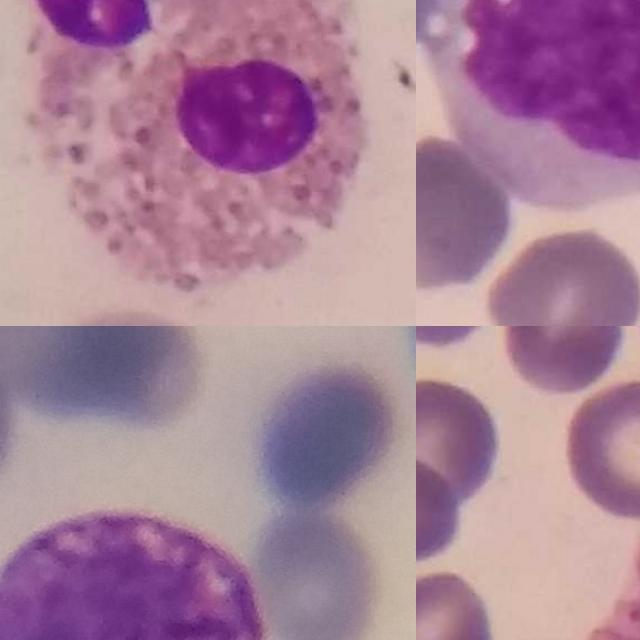Basophil: (0, 511, 264, 640)
Eosinophil: (0, 0, 368, 294)
Monocyte: (430, 0, 640, 206)
